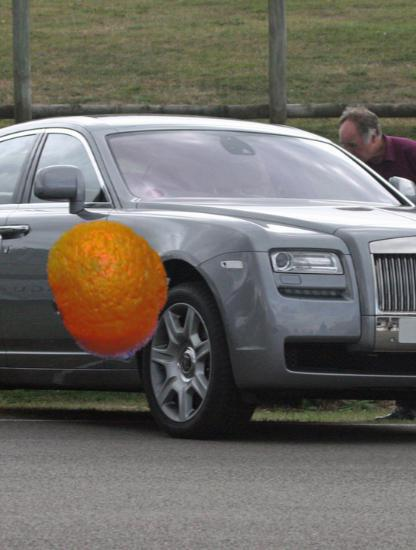Mandarine: (38, 216, 182, 360)
